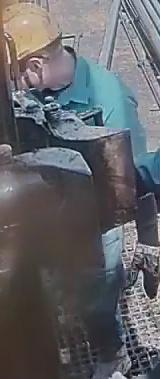gloves: (128, 226, 160, 301)
helmet: (1, 2, 61, 61)
vest: (57, 55, 148, 155)
